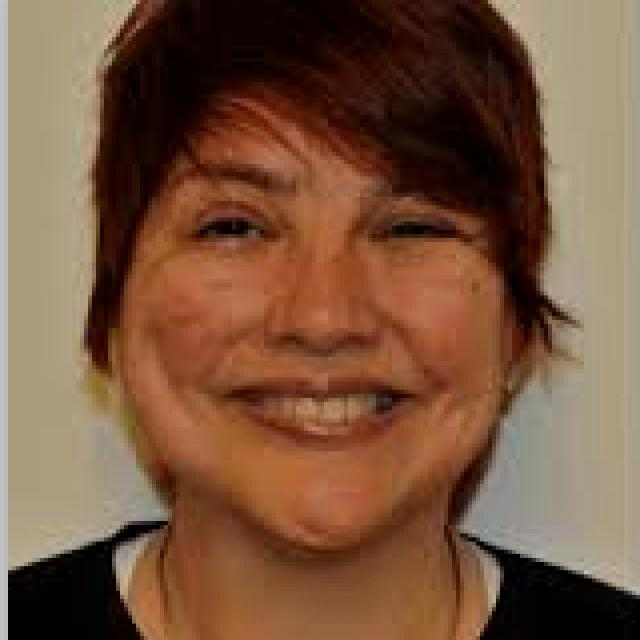normal_face: (115, 19, 527, 555)
